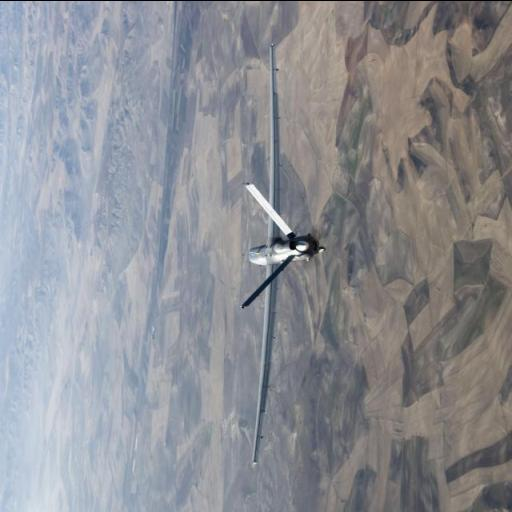uav: (238, 42, 330, 466)
